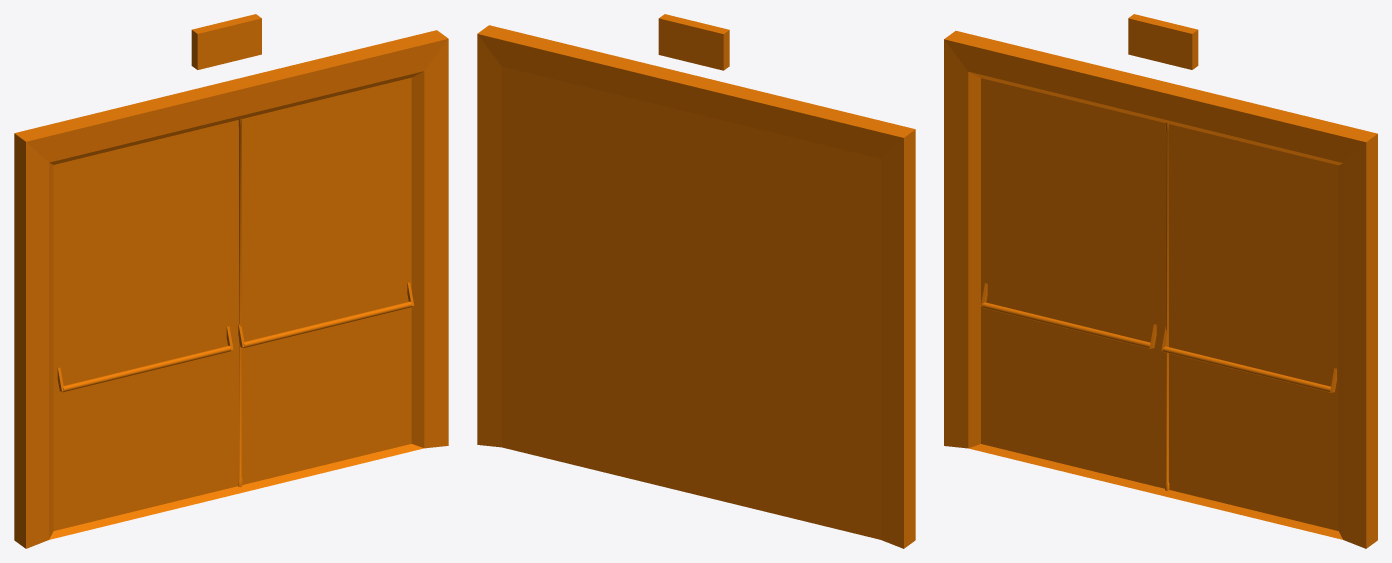
File: puertaSalida fbx.fbx
The picture shows the model from 3 angles, left to right: view 1: azimuth 30°, elevation 25°; view 2: azimuth 150°, elevation 25°; view 3: azimuth 330°, elevation 25°; orthographic projection.
Visible parts, largest first — view 1: Puerta salida; view 2: Puerta salida; view 3: Puerta salida.
Part boxes in pixels (left/top/right/bottom): Puerta salida: left=14, top=14, right=448, bottom=548; Puerta salida: left=477, top=14, right=915, bottom=548; Puerta salida: left=944, top=14, right=1377, bottom=548.
Bounding box in the file's own units: 258 × 272 × 13.01.
